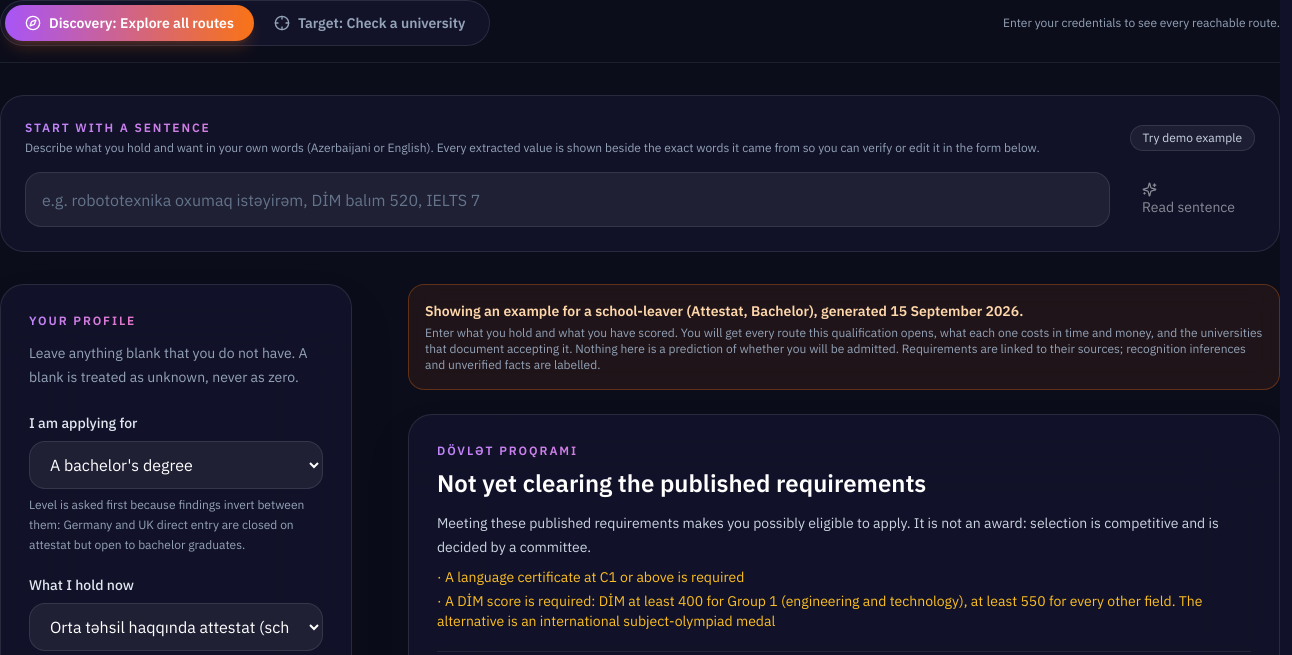
Scenario: RoutePlanner › reads the demo sentence when the sample button is clicked
This screenshot has width=1292, height=655.
Click the button "Try demo example".
click(1192, 138)  # box [1130,125,1255,151]
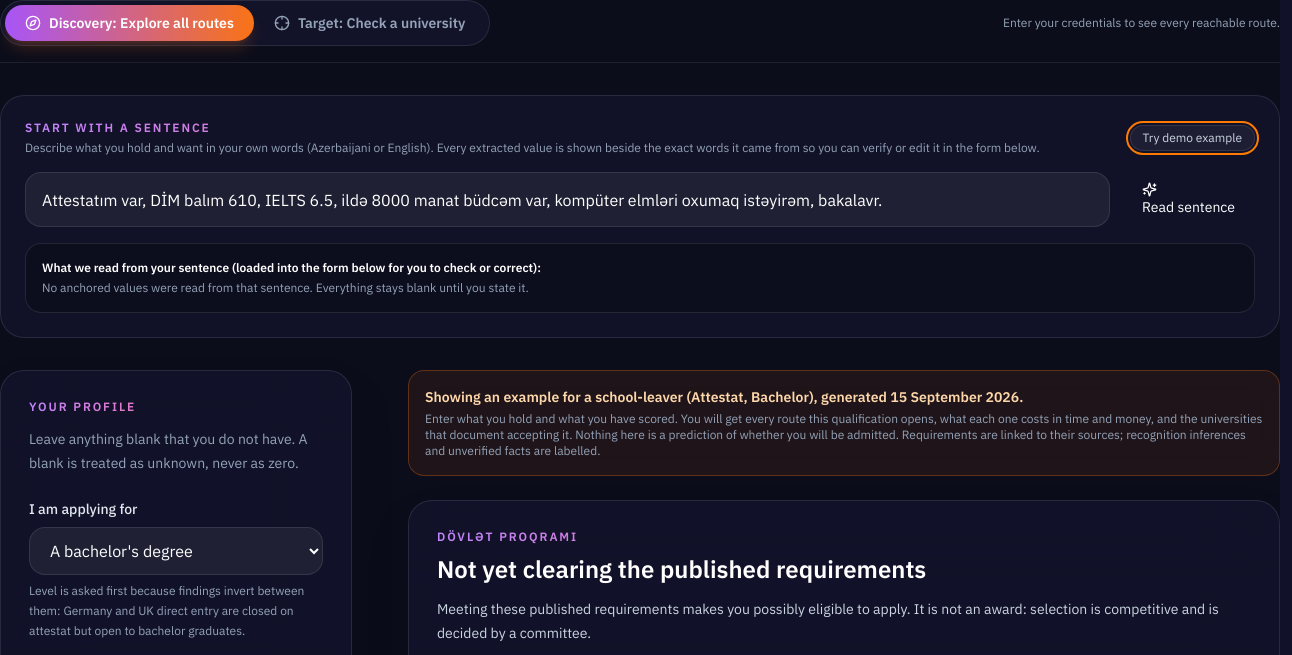
Check: the field named "Describe your profile in a sentence" holds "Attestatım var, DİM balım 610, IELTS 6.5, ildə 8000 manat büdcəm var, kompüter elmləri oxumaq istəyirəm, bakalavr.", box [25,172,1110,227]
